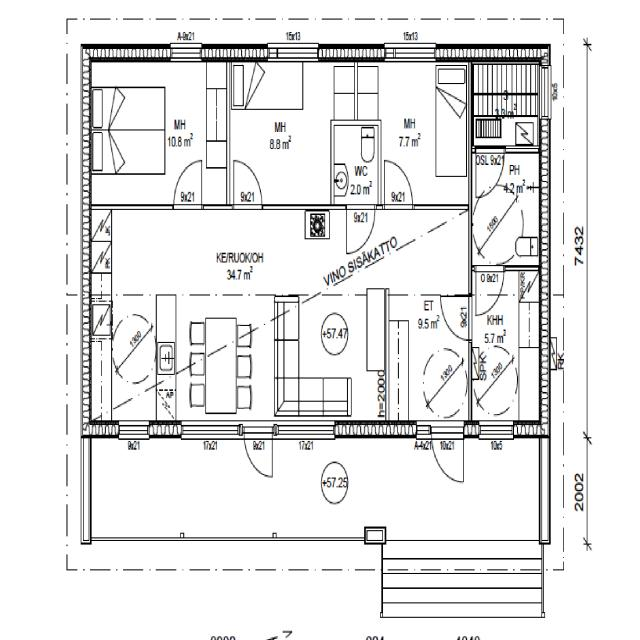door: (432, 422, 464, 488), (244, 421, 272, 482), (384, 158, 413, 210), (234, 158, 262, 210), (476, 146, 504, 197), (441, 296, 473, 340), (347, 203, 375, 253), (174, 159, 202, 209), (476, 265, 504, 314)
